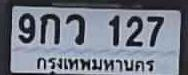1: (108, 14, 118, 45)
2: (125, 15, 142, 46)
7: (146, 15, 163, 46)
9: (18, 12, 34, 42)
A01: (39, 13, 59, 43)
A37: (65, 13, 84, 44)
BKK: (33, 53, 158, 75)
